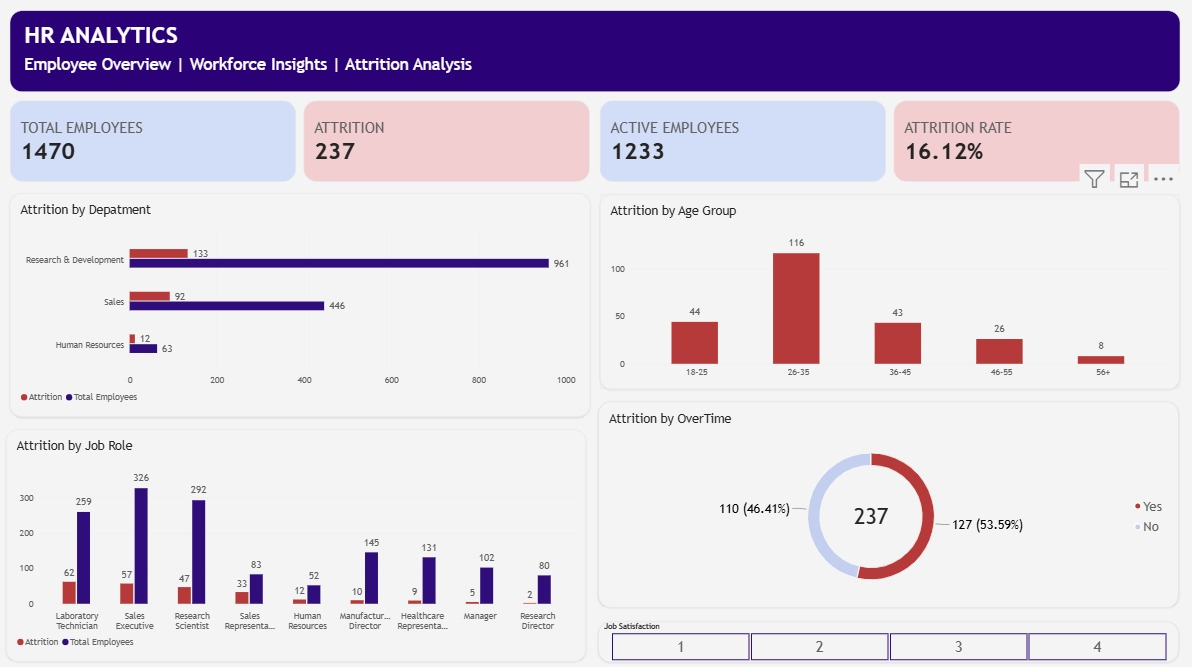

The page's visual inventory and layout, read from the dashboard file:
{"tool":"powerbi","page":{"name":"Page 1","canvas":[1920,1080],"ordinal":0},"visuals":[{"type":"textbox","box":[22.5,20,1872.5,130],"z":0},{"type":"cardVisual","fields":{"Data":["Sum(public HR.employee_count)"]},"box":[22,164,458,130],"z":1000},{"type":"cardVisual","fields":{"Data":["public HR.Attrition_Rate"]},"box":[1436,164,458,130],"z":2000},{"type":"cardVisual","fields":{"Data":["public HR.Karyawan_Resign"]},"box":[492,164,458,130],"z":3000},{"type":"cardVisual","fields":{"Data":["public HR.Karyawan_Aktif"]},"box":[966,164,458,130],"z":4000},{"type":"clusteredBarChart","title":"Attrition by Depatment","fields":{"Category":["public HR.department"],"Y":["public HR.Karyawan_Resign","Sum(public HR.employee_count)"]},"box":[22.9,312.9,928.6,358.6],"z":5000},{"type":"lineClusteredColumnComboChart","title":"Attrition by Job Role","fields":{"Category":["public HR.job_role"],"Y":["public HR.Karyawan_Resign","Sum(public HR.employee_count)"]},"box":[15.7,690,928,372],"z":6000},{"type":"donutChart","title":"Attrition by OverTime","fields":{"Category":["public HR.over_time"],"Y":["public HR.Karyawan_Resign"]},"box":[964.5,646,928.4,329.4],"z":7000},{"type":"slicer","title":"Attrition by OverTime","fields":{"Values":["public HR.job_satisfaction"]},"box":[964.5,997.1,928.4,65.1],"z":8000},{"type":"lineStackedColumnComboChart","title":"Attrition by Age Group","fields":{"Category":["public HR.Age Group"],"Y":["public HR.Karyawan_Resign"]},"box":[966.4,313.1,928.4,313.1],"z":9000}]}

Visuals, with their boxes in screenshot pixels (x1, y1, x2, y2), scaled from the page's 1920x1080 canvas onto the 1192x667 screenshot:
textbox: [left=14, top=12, right=1176, bottom=93]
cardVisual - Sum(public HR.employee_count): [left=14, top=101, right=298, bottom=182]
cardVisual - public HR.Attrition_Rate: [left=892, top=101, right=1176, bottom=182]
cardVisual - public HR.Karyawan_Resign: [left=305, top=101, right=590, bottom=182]
cardVisual - public HR.Karyawan_Aktif: [left=600, top=101, right=884, bottom=182]
"Attrition by Depatment" clusteredBarChart: [left=14, top=193, right=591, bottom=415]
"Attrition by Job Role" lineClusteredColumnComboChart: [left=10, top=426, right=586, bottom=656]
"Attrition by OverTime" donutChart: [left=599, top=399, right=1175, bottom=602]
"Attrition by OverTime" slicer: [left=599, top=616, right=1175, bottom=656]
"Attrition by Age Group" lineStackedColumnComboChart: [left=600, top=193, right=1176, bottom=387]
